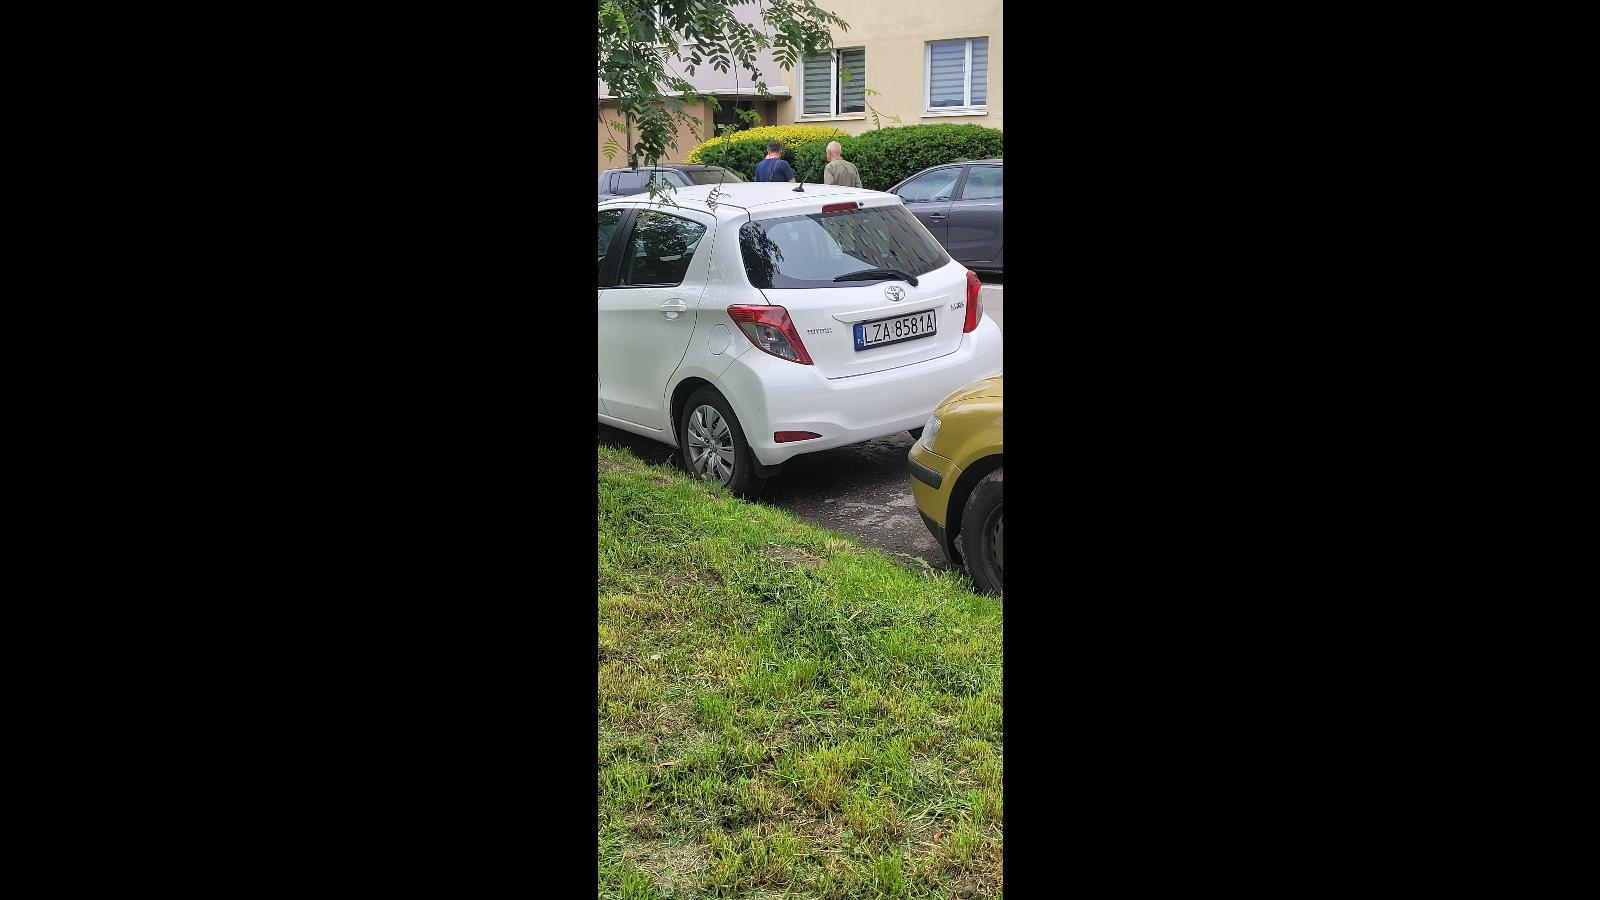plates: (852, 309, 936, 351)
